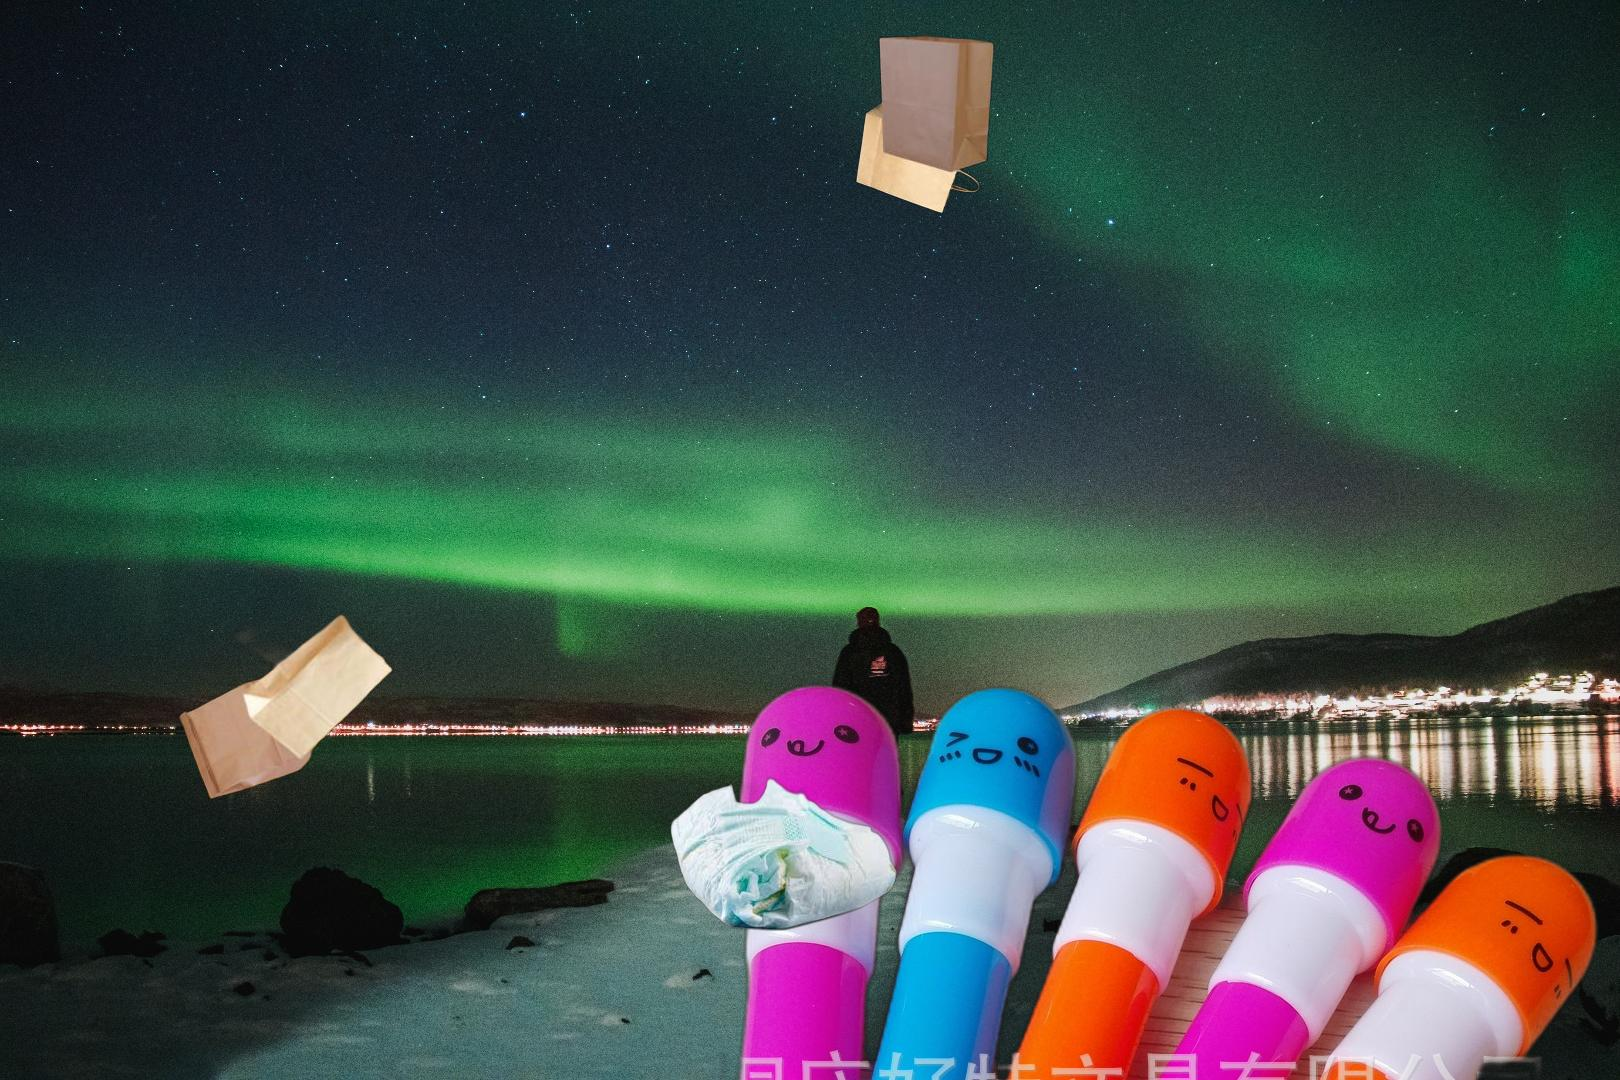paper-bag: (169, 559, 395, 802), (853, 33, 996, 215)
penholder: (708, 677, 1606, 1080)
trash: (667, 770, 900, 933)
